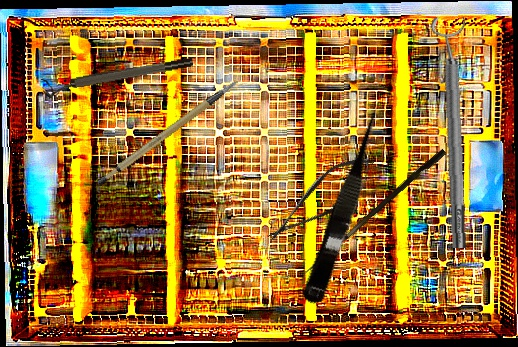Fixation Ring: (429, 16, 478, 249), (41, 55, 195, 99)
Hook Surgical: (304, 146, 447, 280)
Micro Scissor: (300, 104, 393, 309), (257, 144, 385, 256)
Scalpel Handle: (84, 78, 254, 189)
